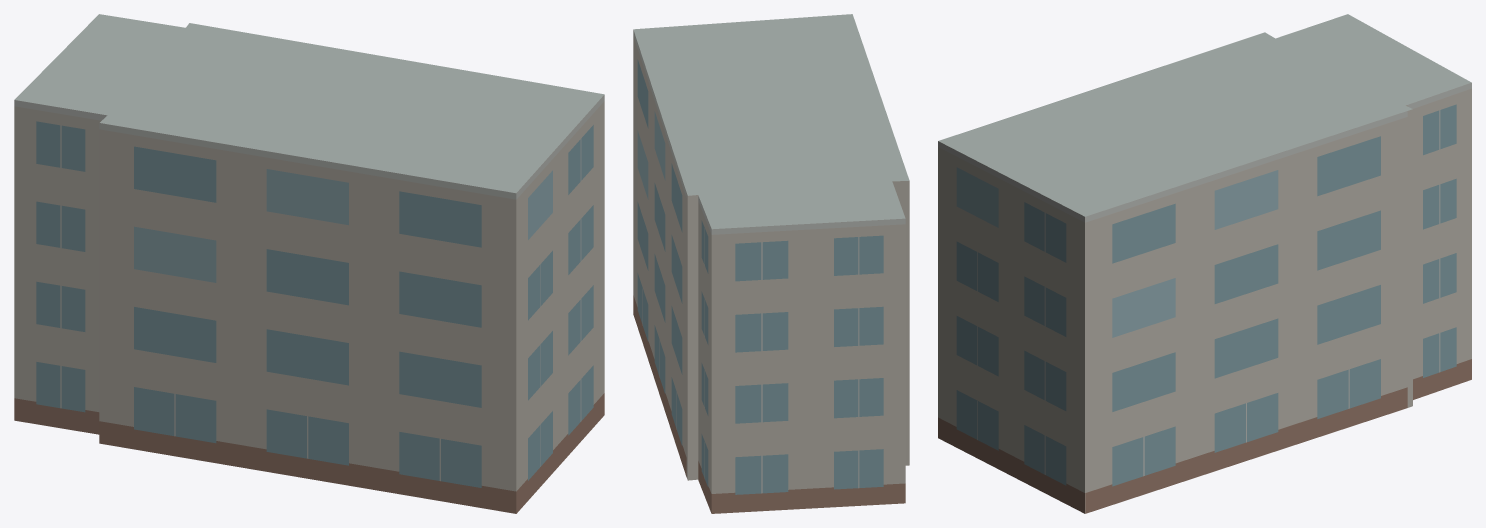
Rendered from survey-upis-32650148.glb.
3 views of the same model, side by side, from view 1: azimuth 30°, elevation 25°; view 2: azimuth 150°, elevation 25°; view 3: azimuth 270°, elevation 25° (orthographic). The views are drawn at different scales.
Parts seen in each view (by area): view 1: survey-upis-32650148.tmp; view 2: survey-upis-32650148.tmp; view 3: survey-upis-32650148.tmp.
Boxes of the visible parts, x1,y1,x2,y2 form: survey-upis-32650148.tmp: [14, 14, 604, 513]; survey-upis-32650148.tmp: [633, 14, 909, 513]; survey-upis-32650148.tmp: [938, 14, 1471, 513].
Bounding box in the file's own units: 17.87 × 12.2 × 19.87.
